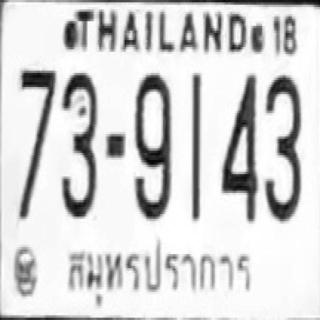N01: (189, 71, 201, 221)
N03: (59, 70, 98, 216), (264, 73, 302, 221)
N04: (221, 72, 258, 220)
N07: (17, 68, 56, 219)
N09: (133, 72, 172, 220)
P57: (66, 233, 254, 313)
